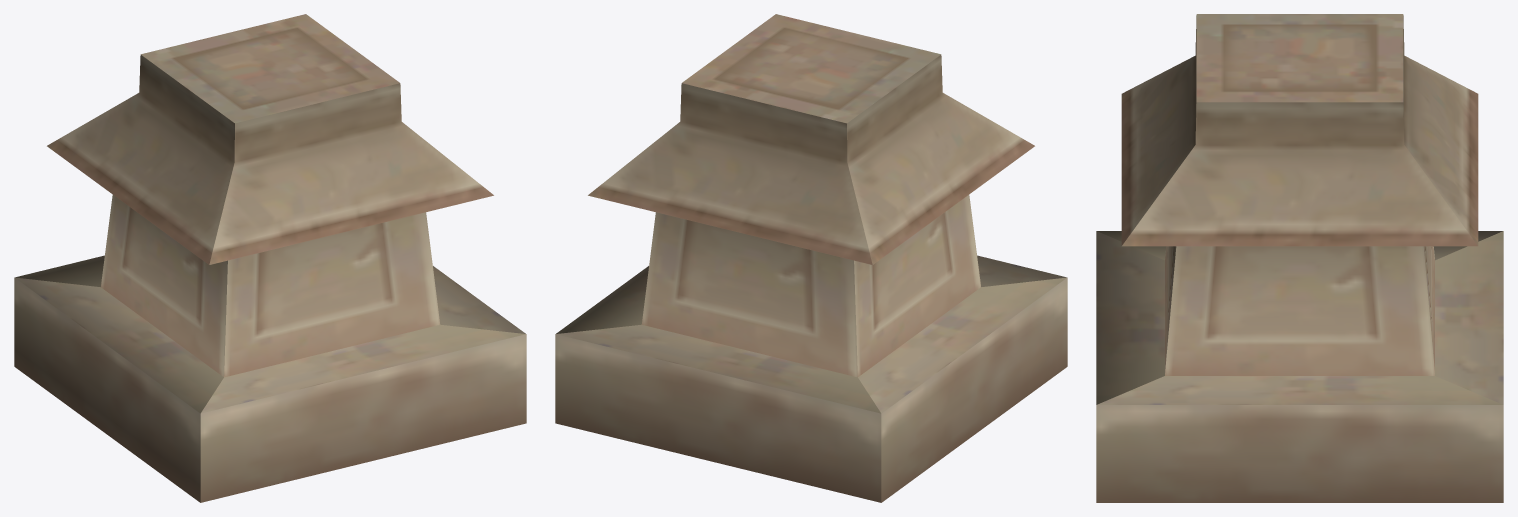
The model's file is MJ_zhanqin_01.FBX.
The picture shows the model from 3 angles, left to right: view 1: azimuth 30°, elevation 25°; view 2: azimuth 150°, elevation 25°; view 3: azimuth 270°, elevation 25°; orthographic projection. The views are drawn at different scales.
Parts seen in each view (by area): view 1: Object20000007; view 2: Object20000007; view 3: Object20000007.
Boxes of the visible parts, box(x1,y1,x2,y2) form: Object20000007: box(14, 14, 526, 502); Object20000007: box(555, 14, 1067, 502); Object20000007: box(1096, 14, 1503, 502).
Bounding box in the file's own units: 1.55 × 1.48 × 1.53.
